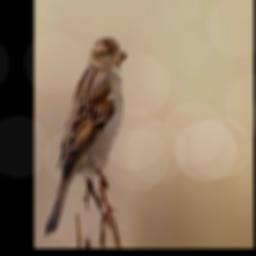Sparrow: (45, 38, 127, 236)
